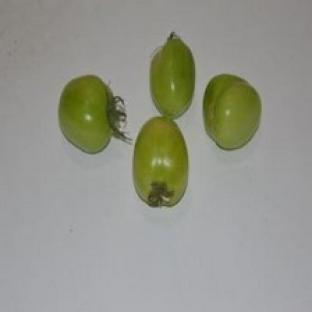Tomato: (59, 76, 126, 153), (133, 116, 189, 206), (204, 74, 261, 150), (150, 34, 194, 118)
